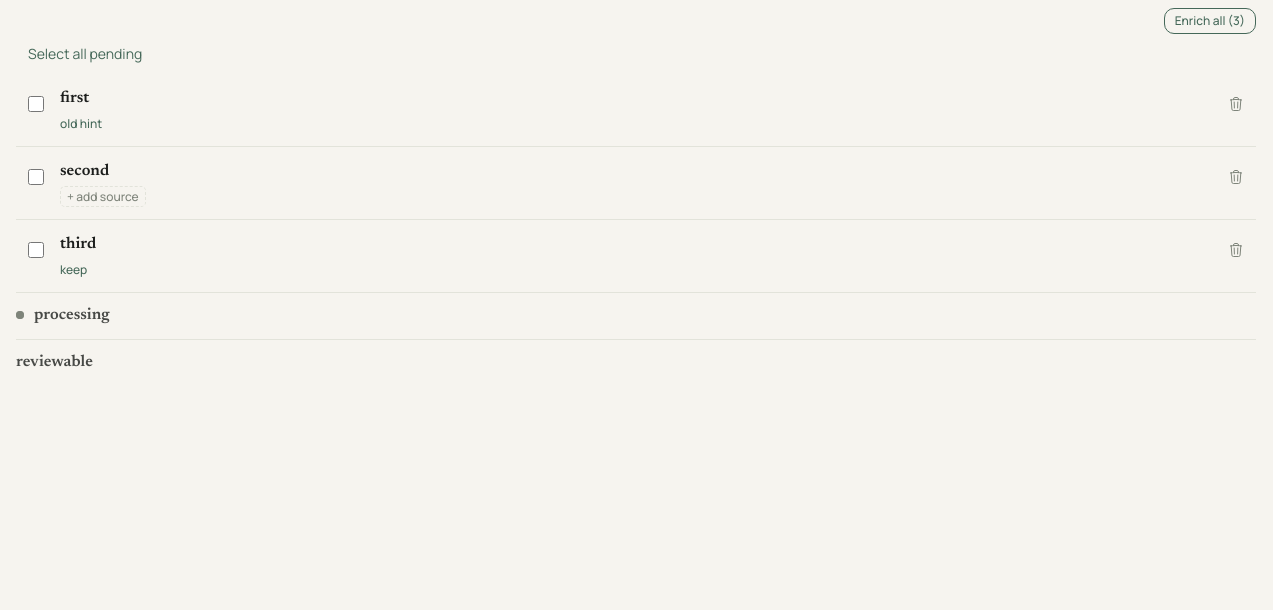
Test: Capture-only Pending Capture selection › locks conflicting controls in flight, then retains the selection and draft on failure for retry
The width and height of the screenshot is (1273, 610).
Click the checkbox named "Select first" at point(36, 104), box [28,96,44,112]
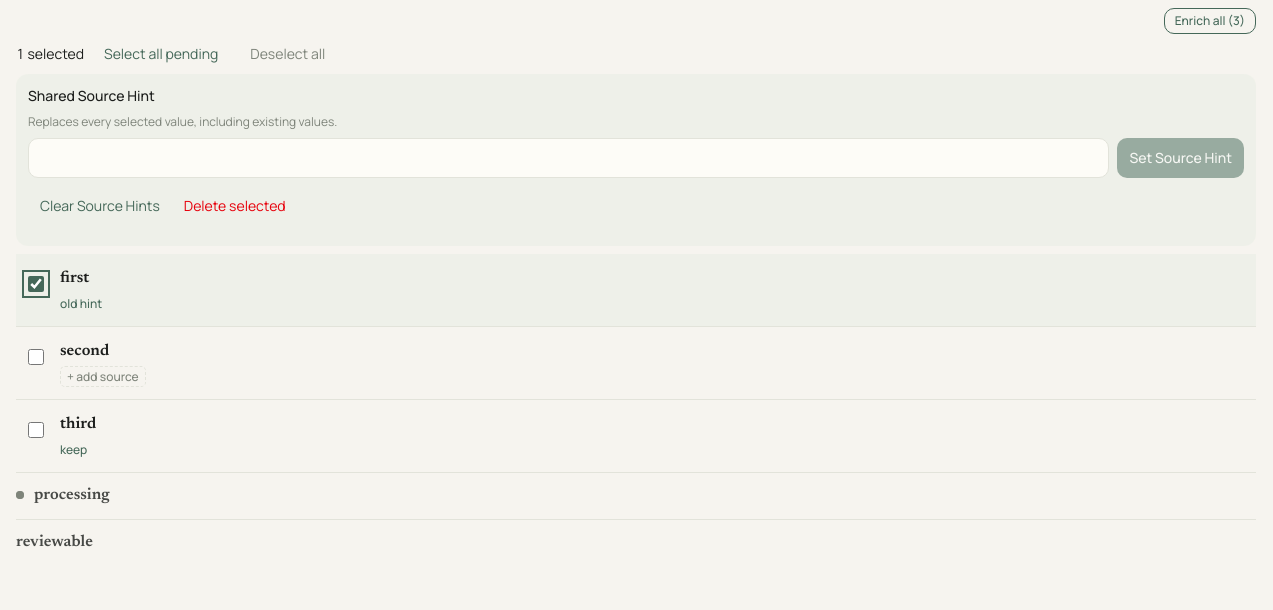
Type "shared" into the field labelled "Shared Source Hint" at point(569, 158), box [28,138,1109,178]
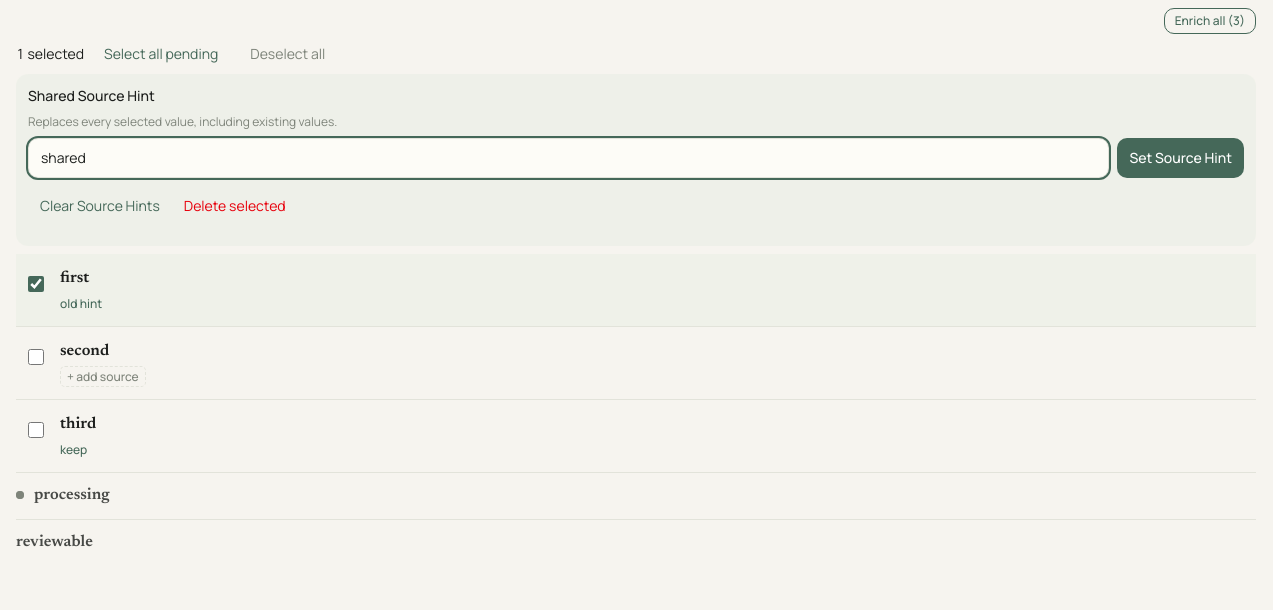
Click the button "Set Source Hint" at point(1181, 158), box [1117,138,1244,178]
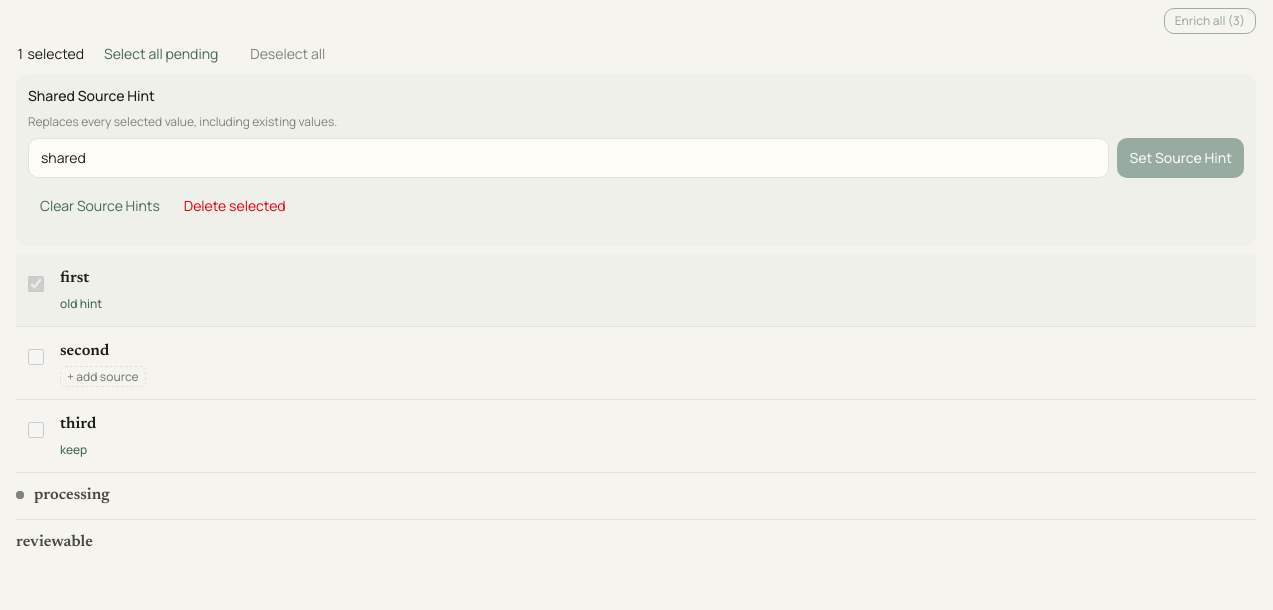
Check: the checkbox named "Select second" is disabled, box [28,349,44,365]
Check: the button "Set Source Hint" is disabled, box [1117,138,1244,178]
Click the button "Clear Source Hints" at point(100, 206), box [28,186,172,226]
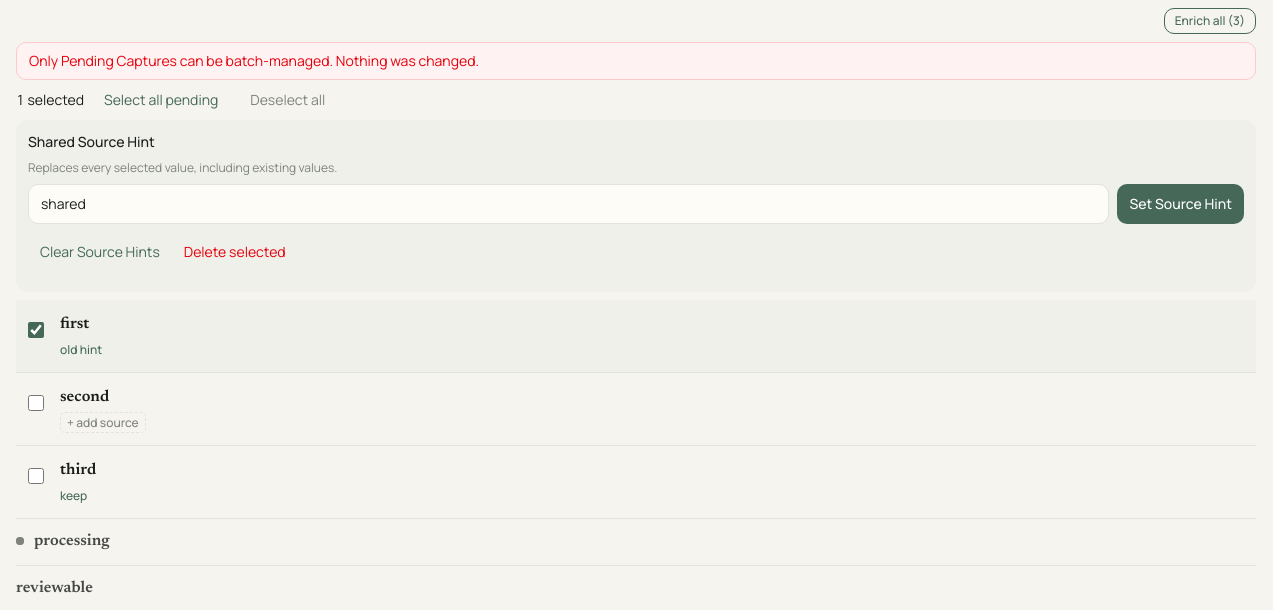
Check: the text "1 selected" is shown, box [16,90,84,110]
Check: the button "Set Source Hint" is enabled
Check: the message shows "Nothing was changed.", box [29,51,479,70]
Click the button "Set Source Hint" at point(1181, 204), box [1117,184,1244,224]
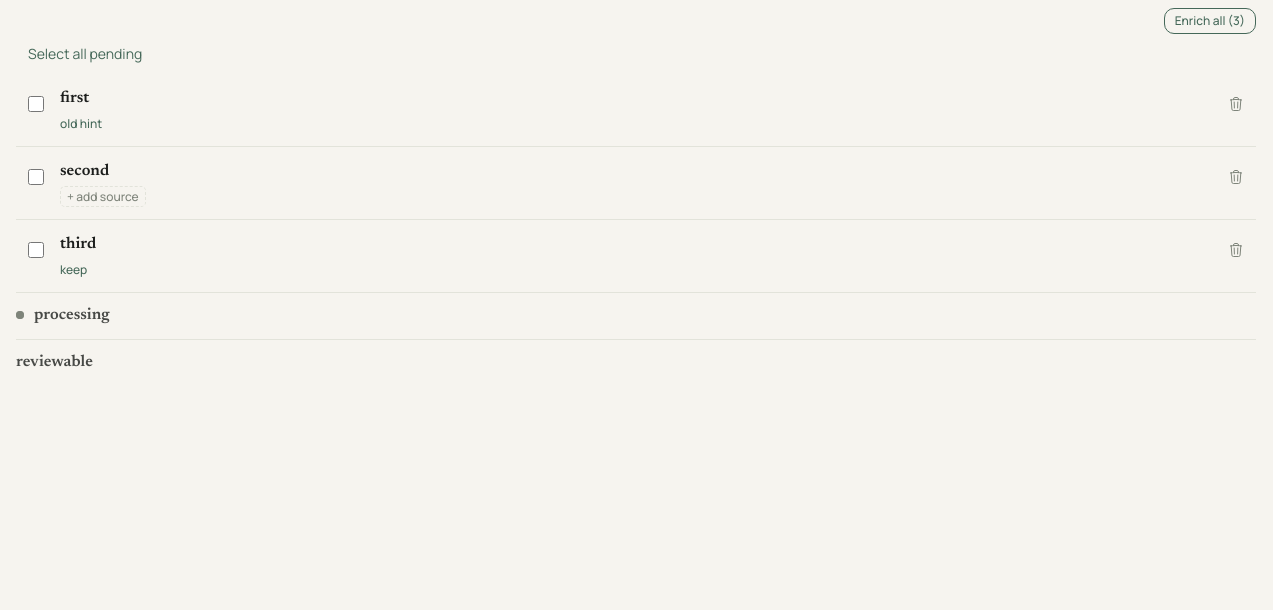
Check: the message "Only Pending Captures can be batch-managed. Nothing was changed." is gone
Check: the text "1 selected" is gone
